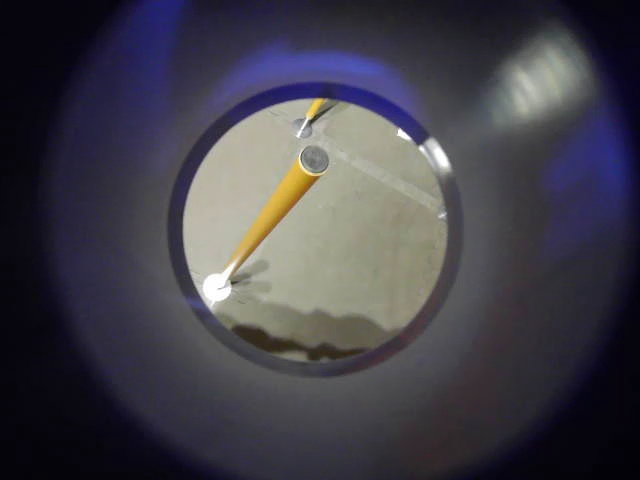tip: (288, 138, 335, 199)
